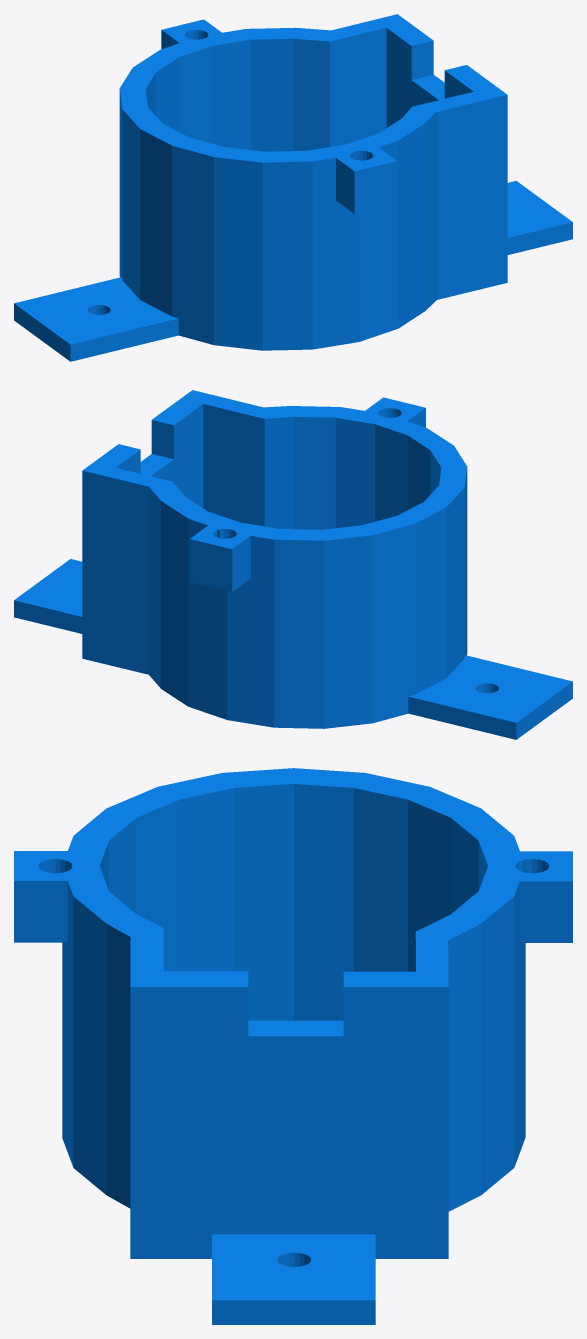
File: stepperholder_v2.glb
3 renders of one model, top to bottom at view 1: azimuth 30°, elevation 25°; view 2: azimuth 150°, elevation 25°; view 3: azimuth 270°, elevation 25°, orthographic. The views are drawn at different scales.
Visible parts, largest first — view 1: stepperholder_v2; view 2: stepperholder_v2; view 3: stepperholder_v2.
Part boxes in pixels (<box>): stepperholder_v2: <box>14,14,572,361</box>; stepperholder_v2: <box>14,390,572,739</box>; stepperholder_v2: <box>14,768,572,1324</box>.
Size of the model in its own units: 0.0615 by 0.022 by 0.041.
